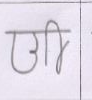i_matra: (48, 19, 67, 73)
